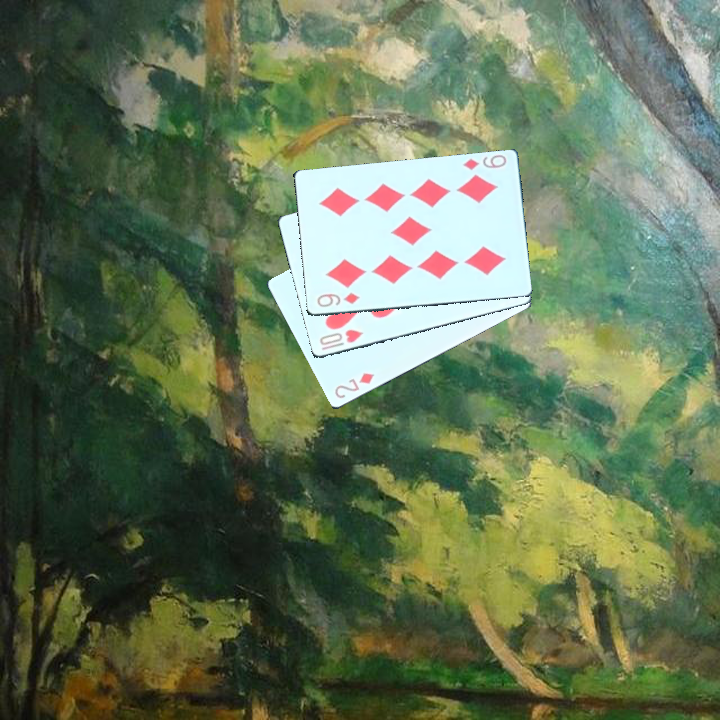10h: (315, 325, 366, 348)
2d: (330, 368, 377, 401)
9d: (459, 152, 509, 173), (313, 288, 362, 309)
